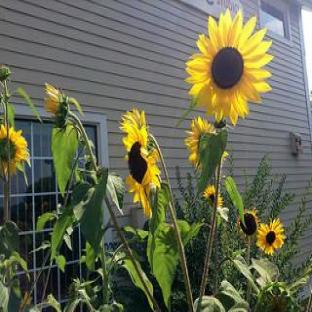sunflower: (184, 10, 273, 298), (119, 108, 174, 205)
